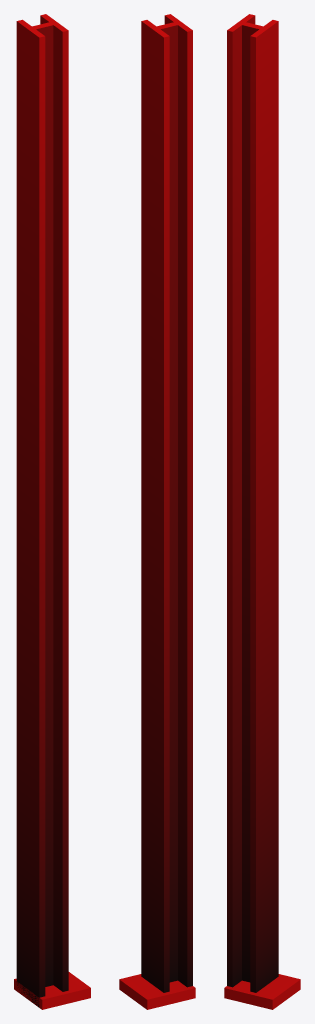
Rendered from wall_column.glb.
The picture shows the model from 3 angles, left to right: view 1: azimuth 30°, elevation 25°; view 2: azimuth 210°, elevation 25°; view 3: azimuth 330°, elevation 25°; orthographic projection.
Parts seen in each view (by area): view 1: wall_column; view 2: wall_column; view 3: wall_column.
Part boxes in pixels (box(x1,y1,x2,y2)): wall_column: box(14, 14, 90, 1009); wall_column: box(119, 14, 195, 1009); wall_column: box(224, 14, 300, 1009).
Bounding box in the file's own units: 1 × 19 × 1.
